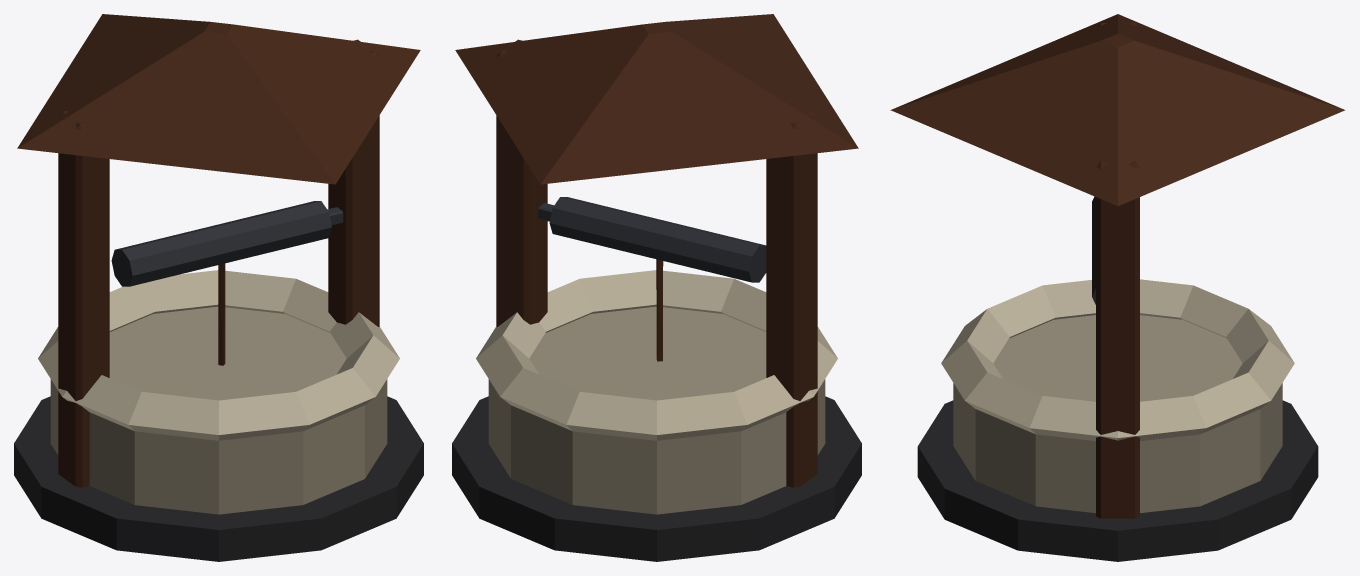
The picture shows the model from 3 angles, left to right: view 1: azimuth 30°, elevation 25°; view 2: azimuth 150°, elevation 25°; view 3: azimuth 270°, elevation 25°; orthographic projection. The views are drawn at different scales.
Parts seen in each view (by area): view 1: WK_InnerKeep_CivicWell_Canopied_LOD1_Balanced; view 2: WK_InnerKeep_CivicWell_Canopied_LOD1_Balanced; view 3: WK_InnerKeep_CivicWell_Canopied_LOD1_Balanced.
Part boxes in pixels (<box>): WK_InnerKeep_CivicWell_Canopied_LOD1_Balanced: <box>14,14,423,561</box>; WK_InnerKeep_CivicWell_Canopied_LOD1_Balanced: <box>452,14,861,561</box>; WK_InnerKeep_CivicWell_Canopied_LOD1_Balanced: <box>890,14,1345,561</box>.
Size of the model in its own units: 3.4 by 3.6 by 3.4.
